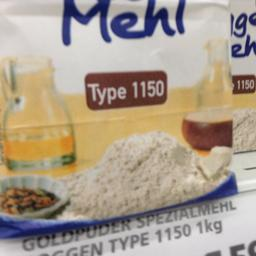flour: (0, 0, 235, 235)
